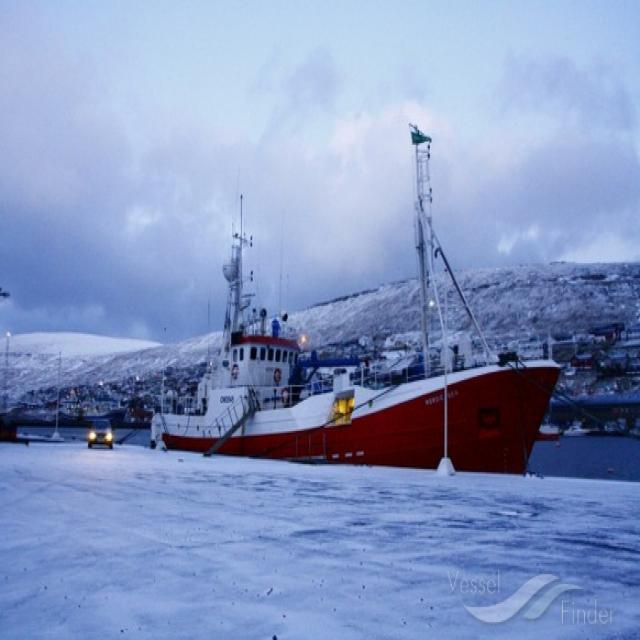Fishing Vessel: (149, 198, 559, 476)
